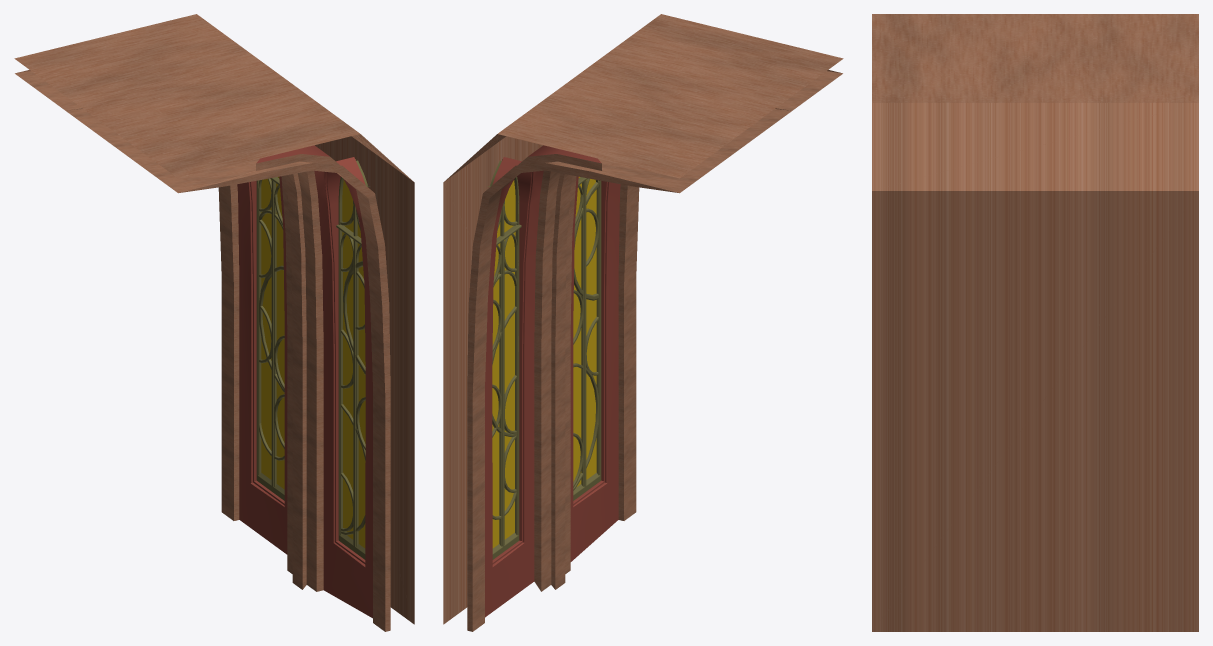
Rendered from Geonosis_WallCeiling_Window.fbx.
3 renders of one model, left to right at view 1: azimuth 30°, elevation 25°; view 2: azimuth 150°, elevation 25°; view 3: azimuth 270°, elevation 25°, orthographic.
Parts seen in each view (by area): view 1: Geonosis_WallCeilingWindow; view 2: Geonosis_WallCeilingWindow; view 3: Geonosis_WallCeilingWindow.
Part boxes in pixels (left/top/right/bottom): Geonosis_WallCeilingWindow: left=14, top=14, right=414, bottom=631; Geonosis_WallCeilingWindow: left=443, top=14, right=843, bottom=631; Geonosis_WallCeilingWindow: left=872, top=14, right=1198, bottom=631.
Bounding box in the file's own units: 835 × 1744 × 1002.
